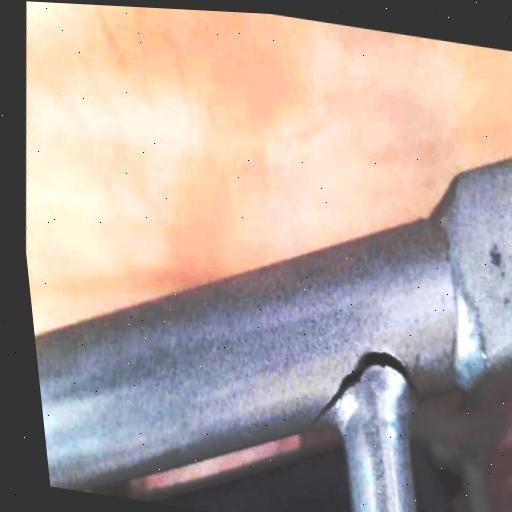crack: (286, 327, 440, 458)
